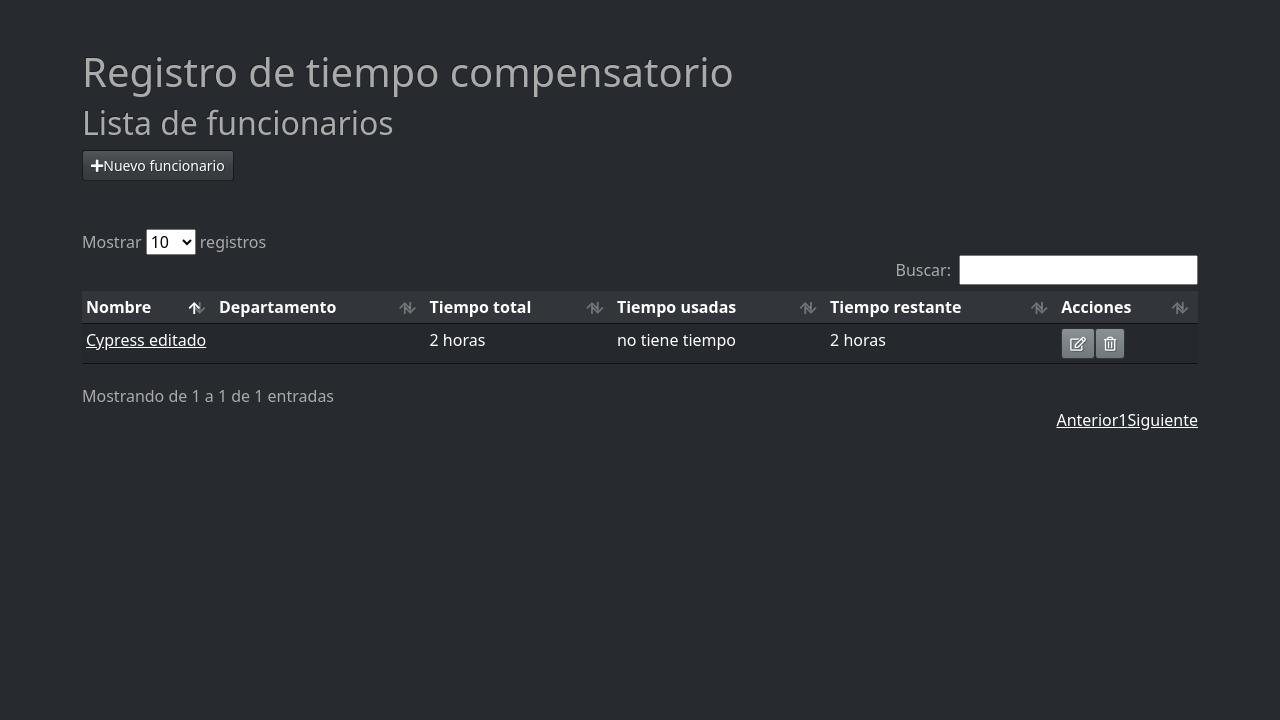
Test: Creación y edición de funcionario › Borrar funcionario
Click the button named "borrar". click: (1110, 344)
box: [1095, 328, 1125, 359]
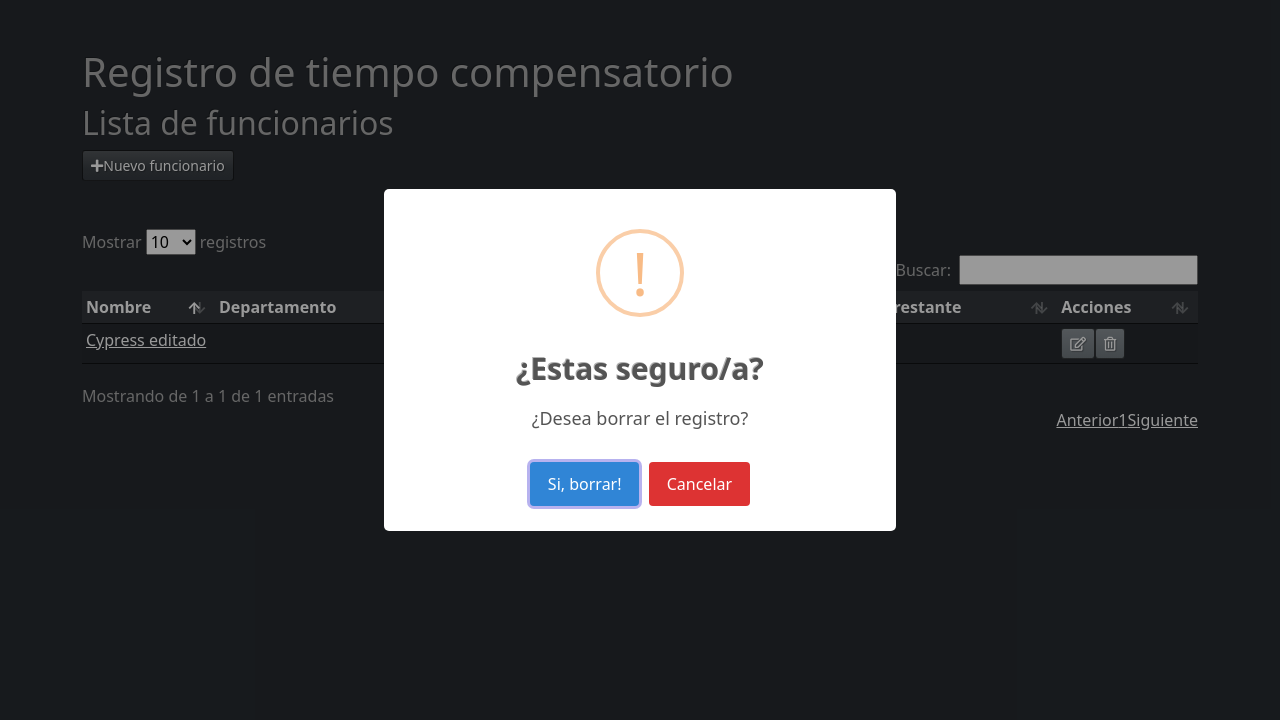
Click the button "Si, borrar!". click: (585, 484)
box: [530, 462, 639, 506]
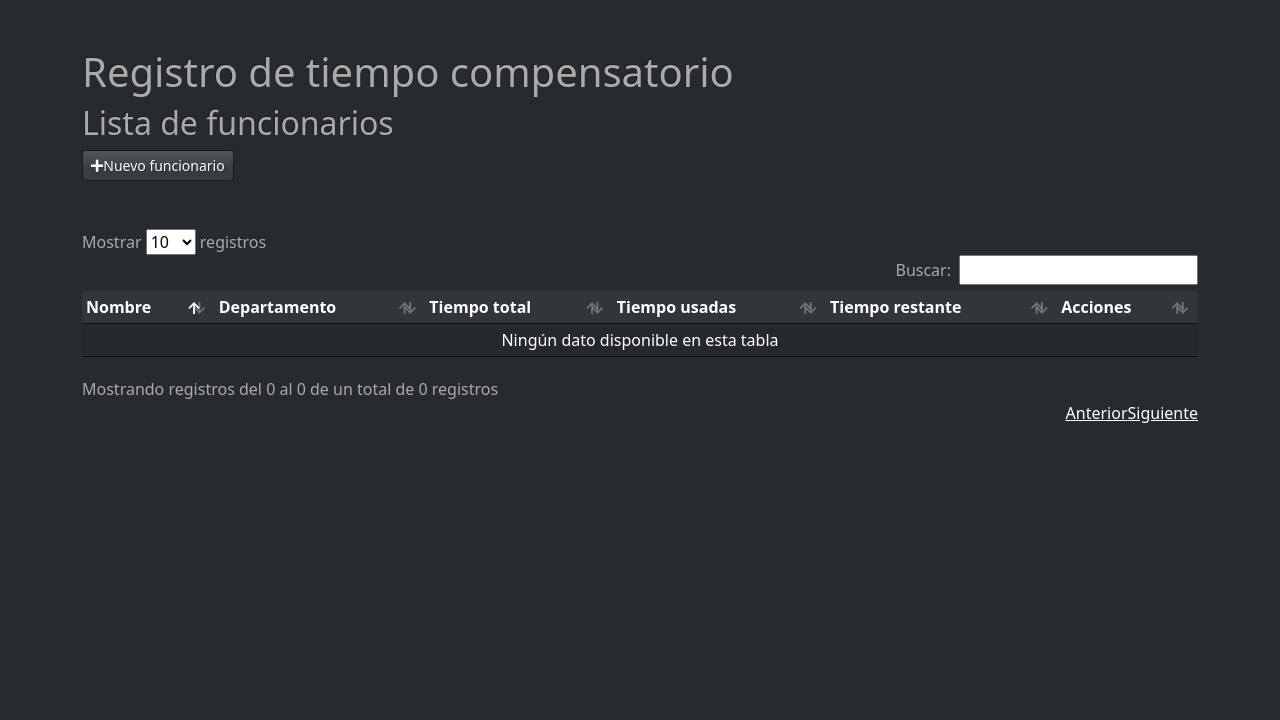
Expected: the table reads "Ningún dato disponible en esta tabla", [82, 324, 1198, 357]
